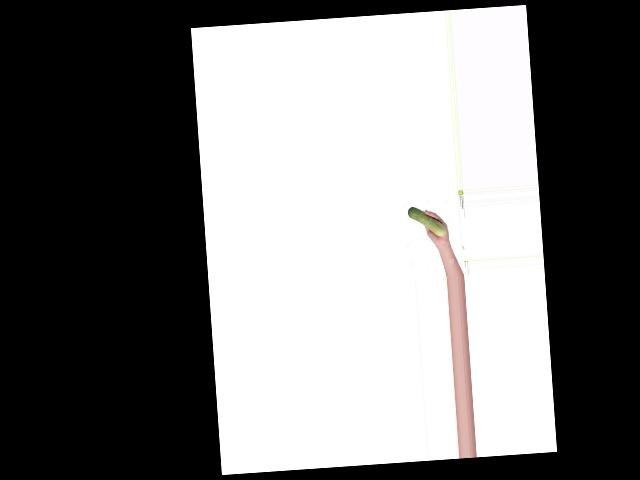cucumber: (408, 205, 446, 238)
